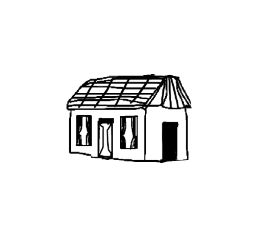door: (157, 117, 184, 168), (94, 111, 116, 166)
open_window: (117, 111, 141, 151), (74, 112, 95, 148)
roof: (56, 67, 195, 112)
small_house: (0, 1, 260, 232)
wall: (66, 101, 149, 166)
